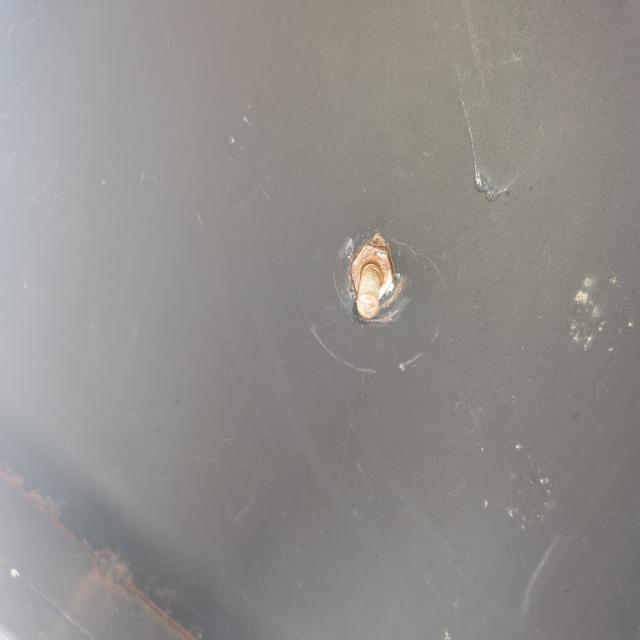bolt nut: (348, 240, 395, 302)
